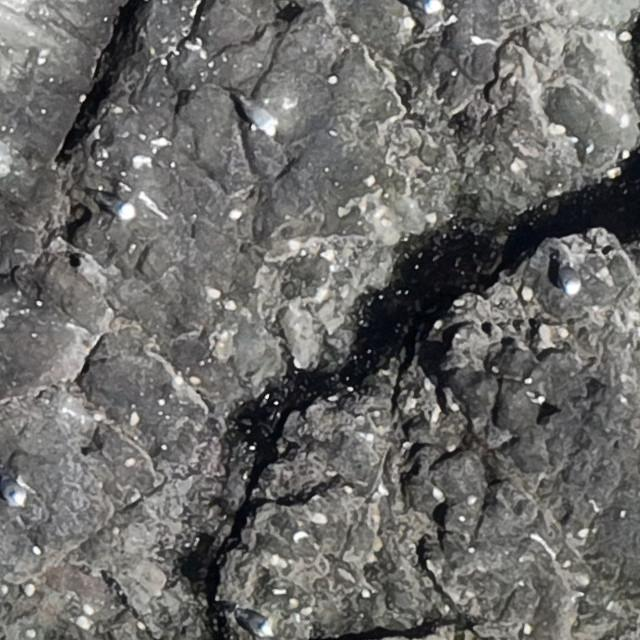umineko: (235, 92, 279, 136), (101, 197, 134, 217), (243, 613, 273, 635), (561, 264, 580, 294), (3, 480, 26, 504)
